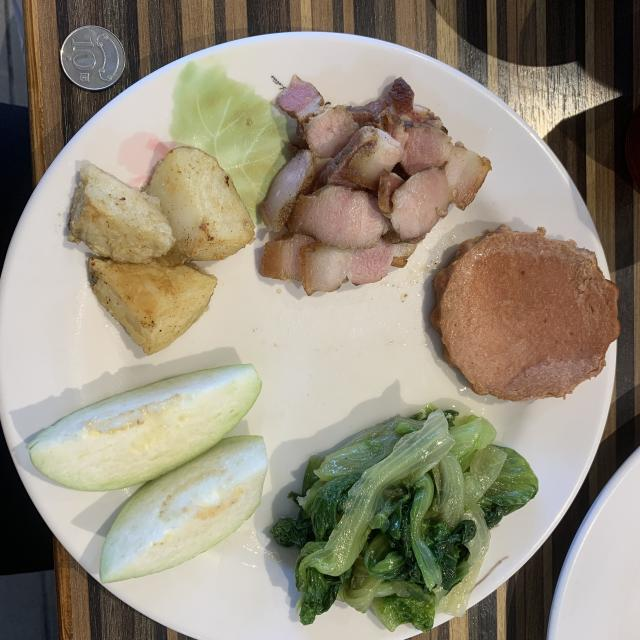Spam: (431, 225, 620, 401)
coin: (60, 26, 125, 90)
fried potato: (69, 146, 254, 354)
grilled pork: (259, 75, 491, 294)
guava -sliced-: (28, 364, 269, 582)
mustard greens: (270, 405, 539, 631)
